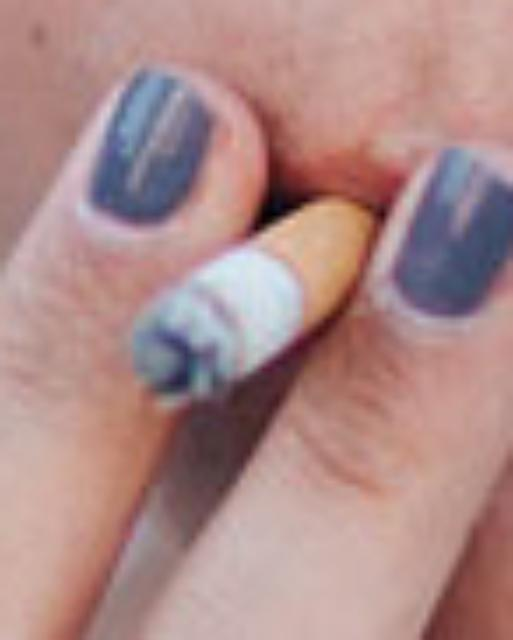Cigarette: (130, 192, 381, 404)
